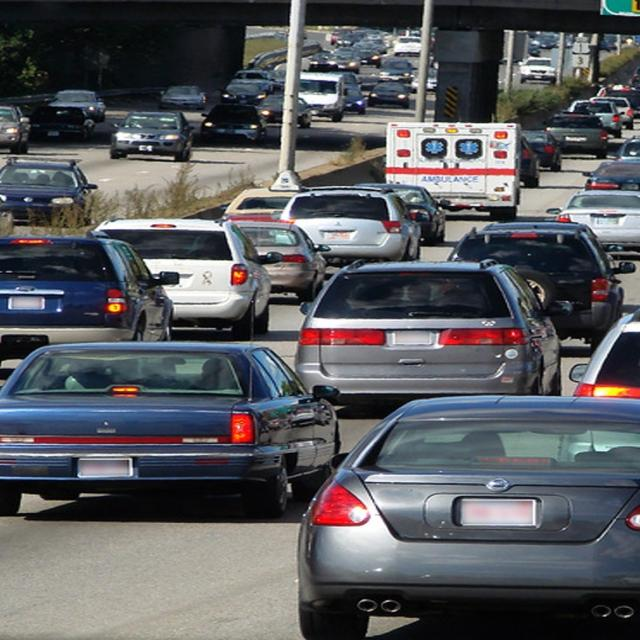Ambulancia: (377, 117, 534, 215)
Carro Azul Escuro: (0, 342, 333, 514), (0, 236, 182, 364)
Carro Branco: (73, 217, 282, 346)
Carro Cinza: (290, 383, 640, 640), (294, 256, 561, 399), (223, 219, 334, 297)
Carro Preto: (437, 223, 638, 350)
